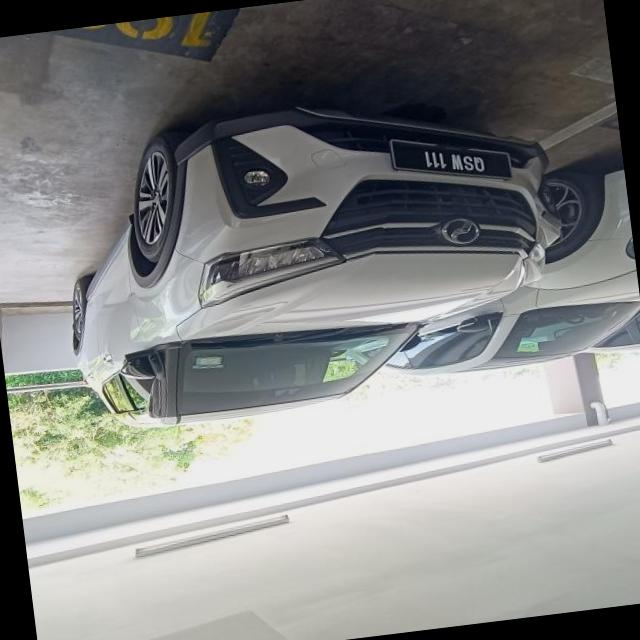PeroduaAtiva: (45, 74, 583, 440)
